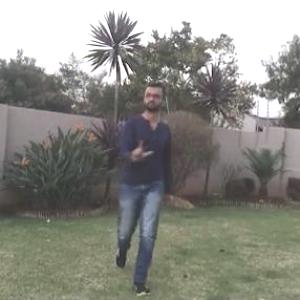land_hand: (126, 124, 155, 162)
